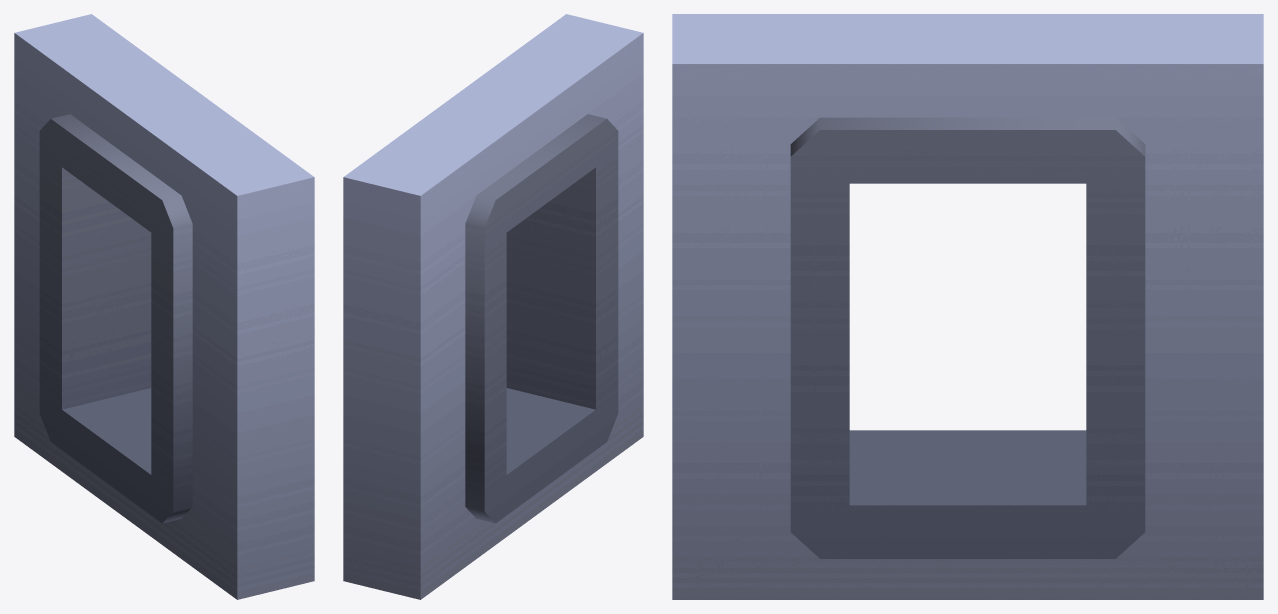
File: wall-window-medium.glb
3 views of the same model, side by side, from view 1: azimuth 30°, elevation 25°; view 2: azimuth 150°, elevation 25°; view 3: azimuth 270°, elevation 25° (orthographic). The views are drawn at different scales.
Visible parts, largest first — view 1: wall-window-medium; view 2: wall-window-medium; view 3: wall-window-medium.
Boxes of the visible parts, x1,y1,x2,y2 form: wall-window-medium: (14,14,314,599); wall-window-medium: (343,14,643,599); wall-window-medium: (672,14,1263,599).
Bounding box in the file's own units: 0.3 × 1 × 1.
1 material, 1 textured.
